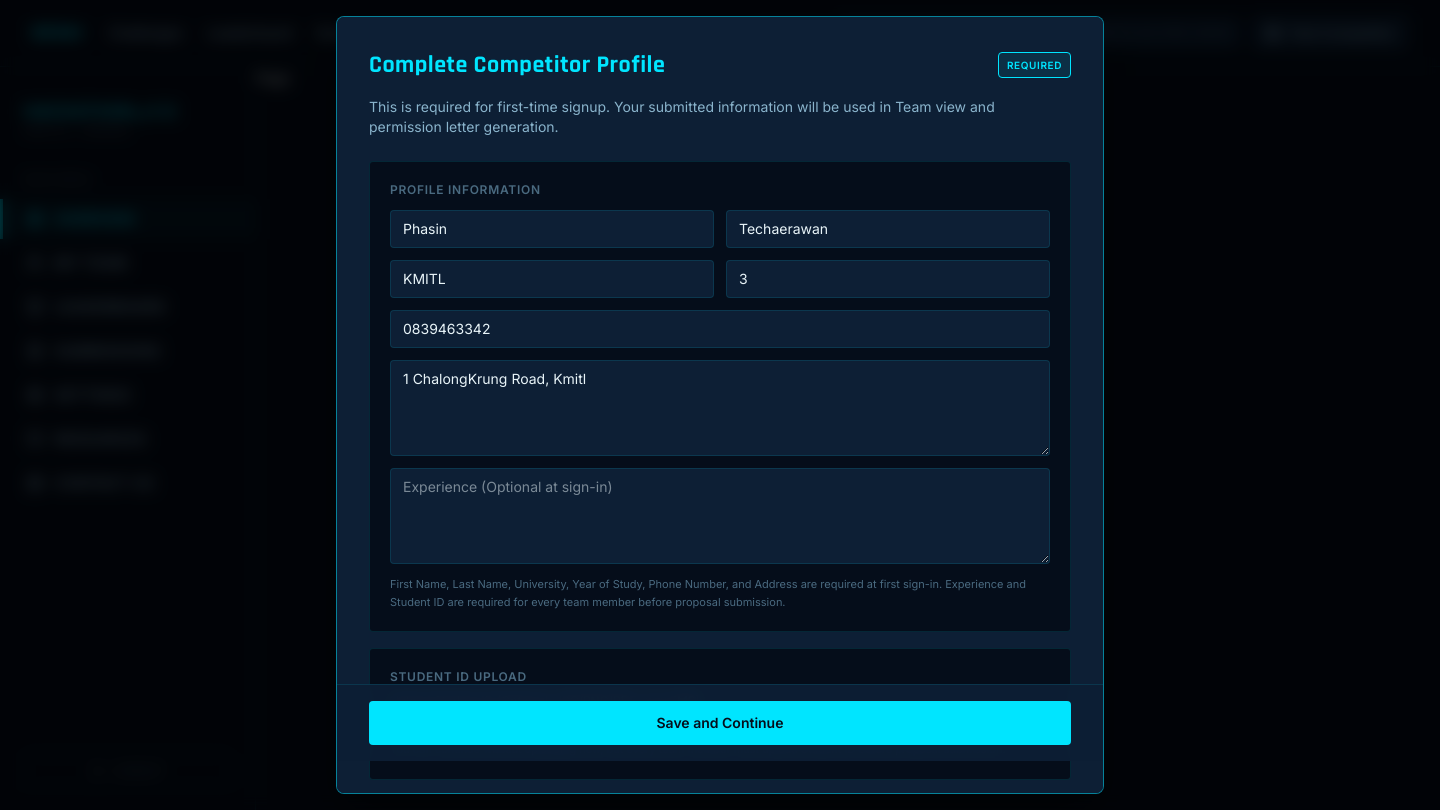
Test: AppShell profile setup modal responsiveness › keeps submit button available after validation API errors
Click the button "Save and Continue".
click(720, 723)  # box left=369, top=701, right=1071, bottom=745
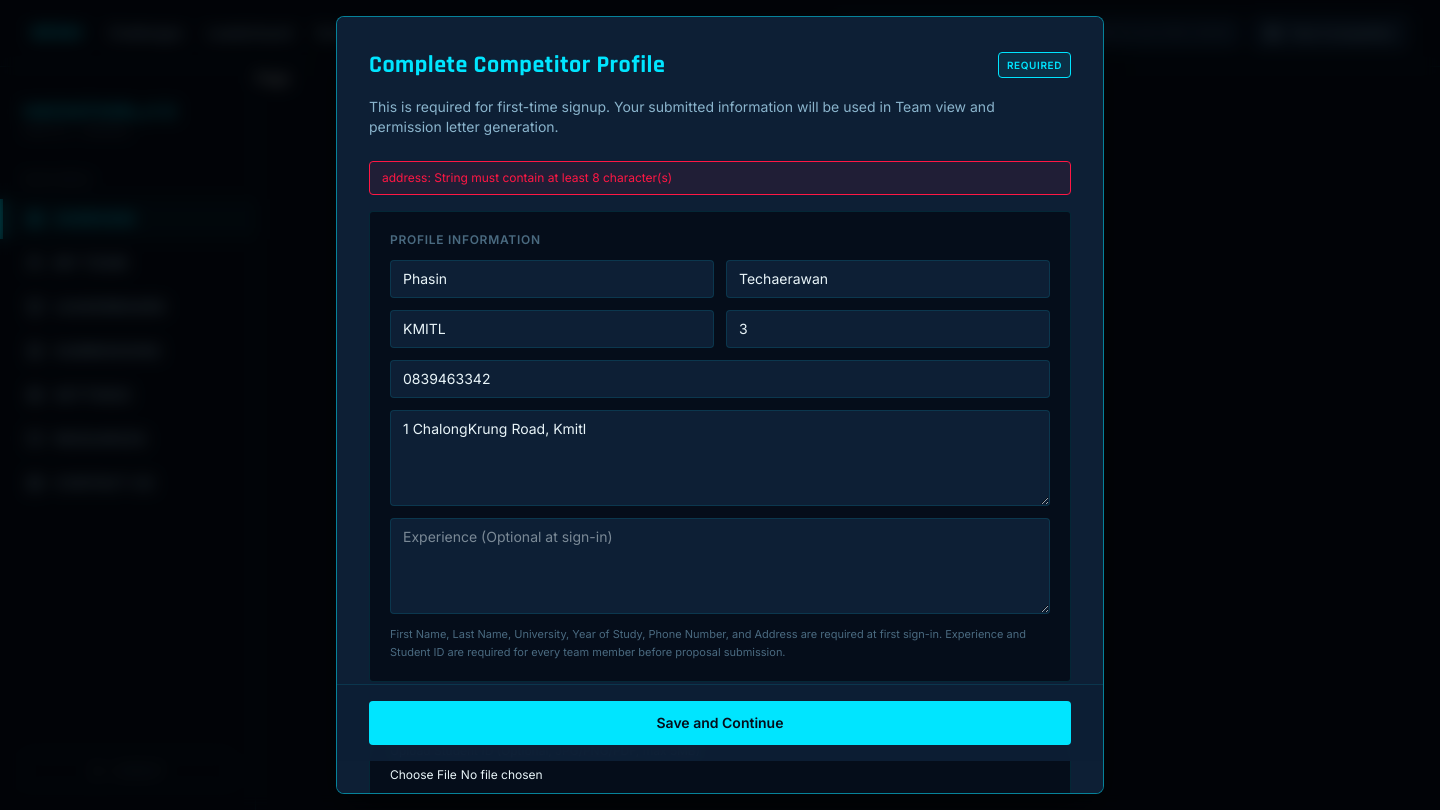
Check: the text "address: String must contain at least 8 character(s)" is shown, box left=369, top=161, right=1071, bottom=195
